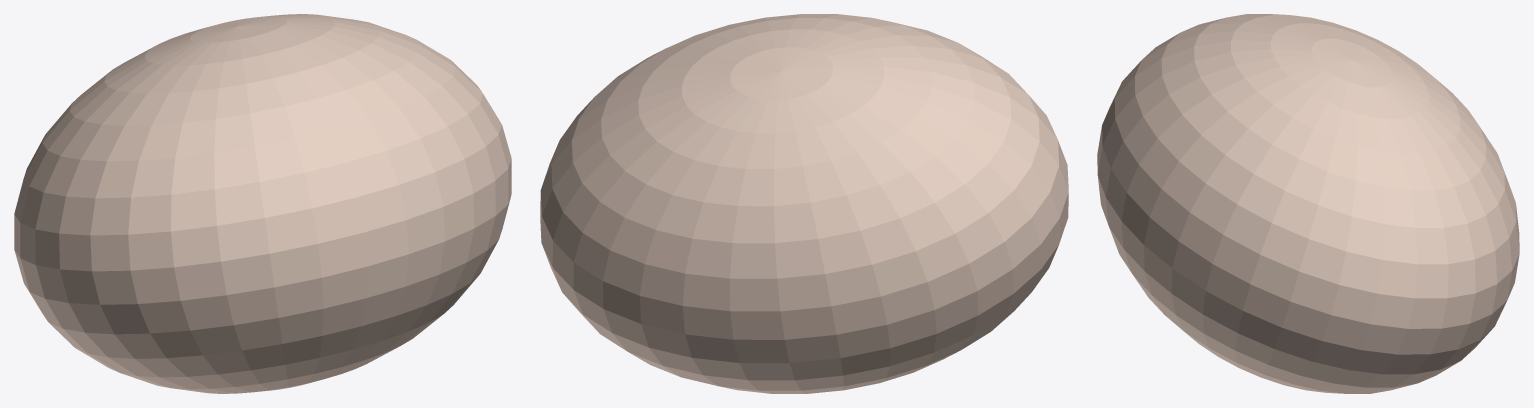
3 views of the same model, side by side, from view 1: azimuth 30°, elevation 25°; view 2: azimuth 150°, elevation 25°; view 3: azimuth 270°, elevation 25° (orthographic). The views are drawn at different scales.
Visible parts, largest first — view 1: Sphere.019; view 2: Sphere.019; view 3: Sphere.019.
Boxes of the visible parts, left/top/right/bottom form: Sphere.019: left=14, top=14, right=511, bottom=393; Sphere.019: left=540, top=14, right=1068, bottom=393; Sphere.019: left=1097, top=14, right=1519, bottom=393.
Size of the model in its own units: 0.2951 by 0.1999 by 0.2501.
